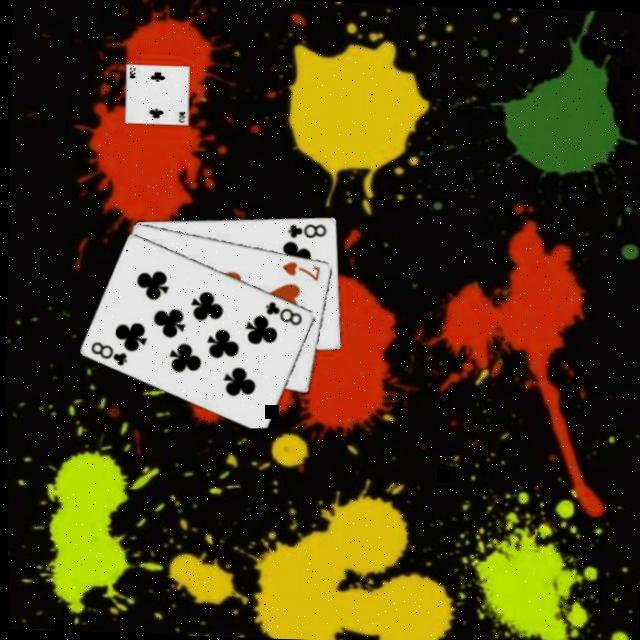7H: (275, 256, 320, 280)
8C: (84, 336, 128, 366), (259, 296, 302, 325), (281, 218, 326, 240)
